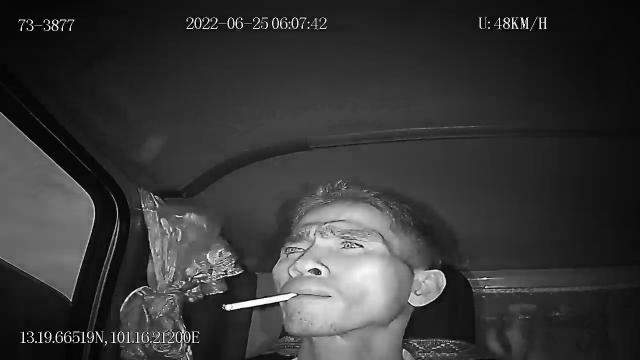SafeDriving: (324, 228, 372, 254), (274, 237, 308, 260)
Smoking: (222, 292, 298, 314)
